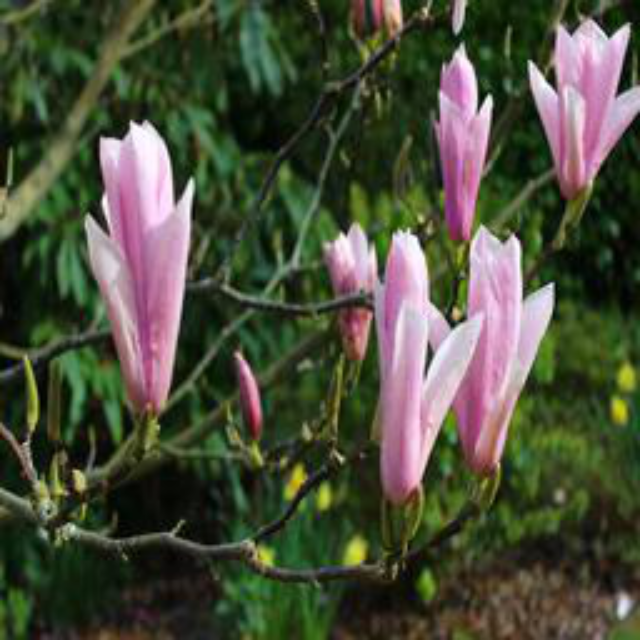magnolia: (418, 225, 558, 513), (77, 115, 198, 448), (364, 223, 486, 547), (521, 16, 639, 218), (424, 42, 497, 248), (315, 221, 380, 370), (228, 344, 278, 464)
